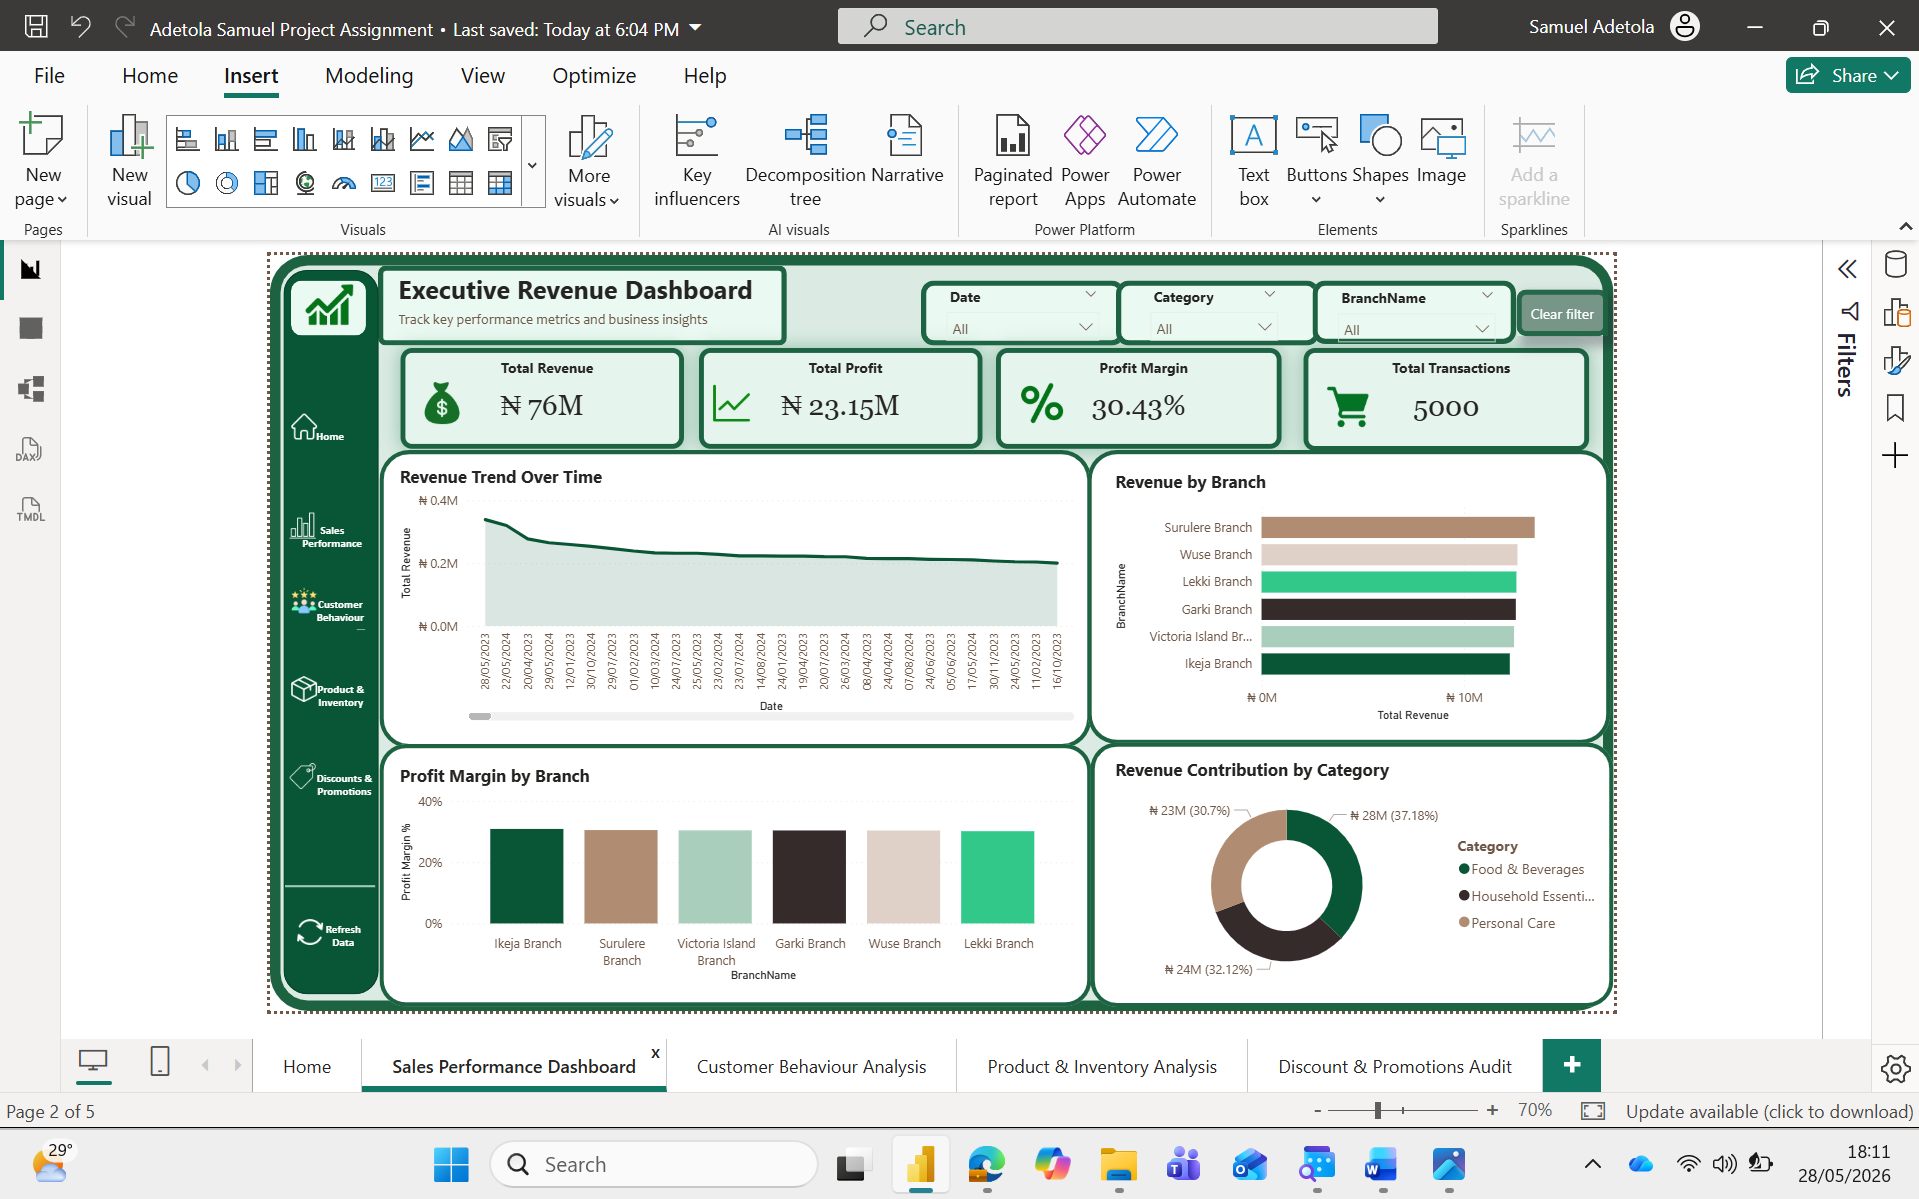

The page's visual inventory and layout, read from the dashboard file:
{"tool":"powerbi","page":{"name":"Sales Performance Dashboard","canvas":[1280,720],"ordinal":1},"visuals":[{"type":"shape","box":[0,0,1279.5,720],"z":0},{"type":"shape","box":[619.9,23.8,193.9,62],"z":1000},{"type":"shape","box":[103.3,9.5,389.4,76.3],"z":2000},{"type":"card","title":"Total Revenue","fields":{"Values":["Measures (4).Total Revenue"]},"box":[124,88,270,96],"z":3000},{"type":"card","title":"Total Profit","fields":{"Values":["Measures (4).Total Profit"]},"box":[408,88,270,96],"z":4000},{"type":"card","title":"Profit Margin","fields":{"Values":["Measures (4).Profit Margin %"]},"box":[692,88,272,96],"z":5000},{"type":"card","title":"Total Transactions","fields":{"Values":["Measures (4).Total Transactions"]},"box":[984,88,272,98],"z":6000},{"type":"slicer","fields":{"Values":["sales_transactions.Date"]},"box":[634.2,23.8,165.3,58.8],"z":7000},{"type":"shape","box":[805.8,23.8,193.9,62],"z":8000},{"type":"slicer","fields":{"Values":["products.Category"]},"box":[828.1,23.8,141.5,57.2],"z":9000},{"type":"textbox","title":"Executive Revenue Dashboard","box":[117.6,15.9,360.8,58.8],"z":10000},{"type":"actionButton","box":[1187.3,33.4,87.4,44.5],"z":11000},{"type":"shape","box":[993.4,23.8,193.9,60.4],"z":12000},{"type":"shape","box":[104,186,678,284],"z":13000},{"type":"slicer","fields":{"Values":["branches.BranchName"]},"box":[1007.7,25.4,170.1,58.8],"z":14000},{"type":"shape","box":[104,466,678,250],"z":15000},{"type":"lineChart","title":"Revenue Trend Over Time","fields":{"Category":["sales_transactions.Date"],"Y":["Measures (4).Total Revenue"]},"box":[118,200,652,248],"z":16000},{"type":"clusteredColumnChart","title":"Profit Margin by Branch","fields":{"Category":["branches.BranchName"],"Y":["Measures (4).Profit Margin %"]},"box":[118,484,652,212],"z":17000},{"type":"shape","box":[778,186,498,280],"z":18000},{"type":"clusteredBarChart","title":"Revenue by Branch","fields":{"Category":["branches.BranchName"],"Y":["Measures (4).Total Revenue"]},"box":[800,204,456,244],"z":19000},{"type":"shape","box":[782,464,498,252],"z":20000},{"type":"shape","box":[12.7,14.3,90.6,689.8],"z":21000},{"type":"donutChart","title":"Revenue Contribution by Category","fields":{"Category":["products.Category"],"Y":["Measures (4).Total Revenue"]},"box":[800,478,476,222],"z":22000},{"type":"shape","box":[20.7,23.8,71.5,52.5],"z":23000},{"type":"image","box":[28.6,19.1,55.6,57.2],"z":24000},{"type":"image","box":[19,627.2,39.1,35],"z":25000},{"type":"shape","box":[14.3,575.4,85.8,50.9],"z":26000},{"type":"image","box":[12.7,146.2,39.7,35],"z":27000},{"type":"image","title":"Sales Performance","box":[11.9,239.8,39.7,35],"z":28000},{"type":"image","box":[12.7,311.5,39,35],"z":29000},{"type":"image","box":[12.7,395.8,39,35],"z":30000},{"type":"image","box":[11.9,478.2,39.7,35],"z":31000},{"type":"textbox","title":"Home","box":[6.7,165.2,100.4,21.2],"z":32000},{"type":"textbox","title":"Sales                                        Performance","box":[22.3,255.9,73.1,27],"z":33000},{"type":"textbox","title":"Customer Behaviour","box":[39.1,325.9,56.9,35.7],"z":34000},{"type":"textbox","title":"Product & Inventory","box":[39.1,407.3,58,32.4],"z":35000},{"type":"textbox","title":"Discounts & Promotions","box":[37.9,491,64.7,32.4],"z":36000},{"type":"textbox","title":"Refresh Data","box":[39.7,635.8,59.6,25.2],"z":37000},{"type":"image","box":[138.6,116.1,50,50],"z":38000},{"type":"image","box":[414.3,116.1,50,50],"z":39000},{"type":"image","box":[710,116.1,50,50],"z":40000},{"type":"image","box":[1001.4,119,50,50],"z":41000}]}

Visuals, with their boxes on the page's 1280x720 design canvas (x1, y1, x2, y2). These are canvas units, not pixel positions in the 1919x1199 screenshot, which may show the page scaled, cropped or inside an application window:
shape: pyautogui.locateOnScreen(0, 0, 1280, 720)
shape: pyautogui.locateOnScreen(620, 24, 814, 86)
shape: pyautogui.locateOnScreen(103, 10, 493, 86)
"Total Revenue" card: pyautogui.locateOnScreen(124, 88, 394, 184)
"Total Profit" card: pyautogui.locateOnScreen(408, 88, 678, 184)
"Profit Margin" card: pyautogui.locateOnScreen(692, 88, 964, 184)
"Total Transactions" card: pyautogui.locateOnScreen(984, 88, 1256, 186)
slicer - sales_transactions.Date: pyautogui.locateOnScreen(634, 24, 800, 83)
shape: pyautogui.locateOnScreen(806, 24, 1000, 86)
slicer - products.Category: pyautogui.locateOnScreen(828, 24, 970, 81)
"Executive Revenue Dashboard" textbox: pyautogui.locateOnScreen(118, 16, 478, 75)
actionButton: pyautogui.locateOnScreen(1187, 33, 1275, 78)
shape: pyautogui.locateOnScreen(993, 24, 1187, 84)
shape: pyautogui.locateOnScreen(104, 186, 782, 470)
slicer - branches.BranchName: pyautogui.locateOnScreen(1008, 25, 1178, 84)
shape: pyautogui.locateOnScreen(104, 466, 782, 716)
"Revenue Trend Over Time" lineChart: pyautogui.locateOnScreen(118, 200, 770, 448)
"Profit Margin by Branch" clusteredColumnChart: pyautogui.locateOnScreen(118, 484, 770, 696)
shape: pyautogui.locateOnScreen(778, 186, 1276, 466)
"Revenue by Branch" clusteredBarChart: pyautogui.locateOnScreen(800, 204, 1256, 448)
shape: pyautogui.locateOnScreen(782, 464, 1280, 716)
shape: pyautogui.locateOnScreen(13, 14, 103, 704)
"Revenue Contribution by Category" donutChart: pyautogui.locateOnScreen(800, 478, 1276, 700)
shape: pyautogui.locateOnScreen(21, 24, 92, 76)
image: pyautogui.locateOnScreen(29, 19, 84, 76)
image: pyautogui.locateOnScreen(19, 627, 58, 662)
shape: pyautogui.locateOnScreen(14, 575, 100, 626)
image: pyautogui.locateOnScreen(13, 146, 52, 181)
"Sales Performance" image: pyautogui.locateOnScreen(12, 240, 52, 275)
image: pyautogui.locateOnScreen(13, 312, 52, 346)
image: pyautogui.locateOnScreen(13, 396, 52, 431)
image: pyautogui.locateOnScreen(12, 478, 52, 513)
"Home" textbox: pyautogui.locateOnScreen(7, 165, 107, 186)
"Sales                                        Performance" textbox: pyautogui.locateOnScreen(22, 256, 95, 283)
"Customer Behaviour" textbox: pyautogui.locateOnScreen(39, 326, 96, 362)
"Product & Inventory" textbox: pyautogui.locateOnScreen(39, 407, 97, 440)
"Discounts & Promotions" textbox: pyautogui.locateOnScreen(38, 491, 103, 523)
"Refresh Data" textbox: pyautogui.locateOnScreen(40, 636, 99, 661)
image: pyautogui.locateOnScreen(139, 116, 189, 166)
image: pyautogui.locateOnScreen(414, 116, 464, 166)
image: pyautogui.locateOnScreen(710, 116, 760, 166)
image: pyautogui.locateOnScreen(1001, 119, 1051, 169)
